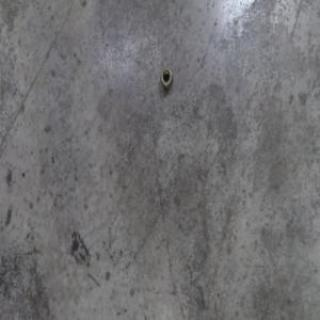Nuttrack_idkeyframe: (158, 64, 172, 91)
